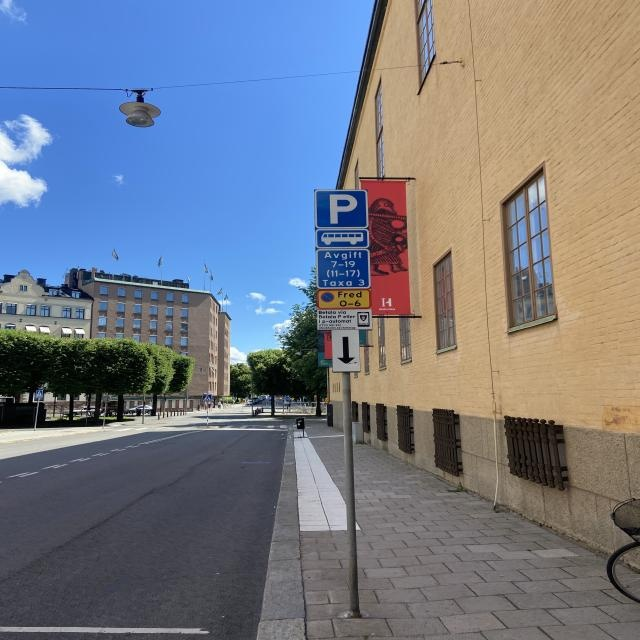P-skylt: (314, 188, 369, 229)
